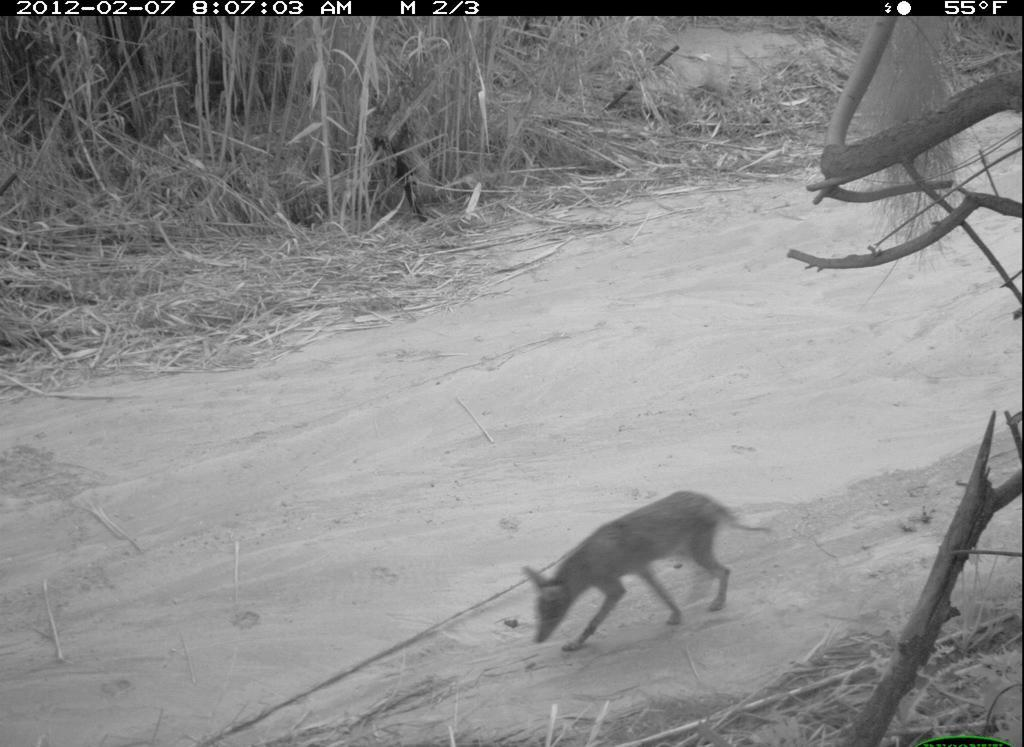coyote: (515, 488, 776, 666)
